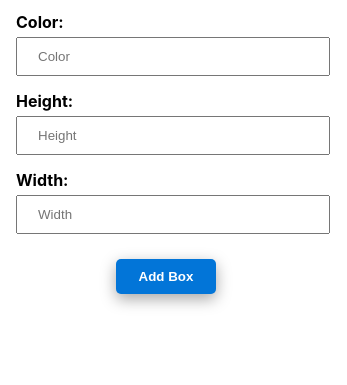
it: Add new box to boxList and DOM
Check: the text "Remove Box!" is not shown
Step 1. Type "peachpuff" into the field labelled "Color:" → (173,56), box [16,37,330,76]
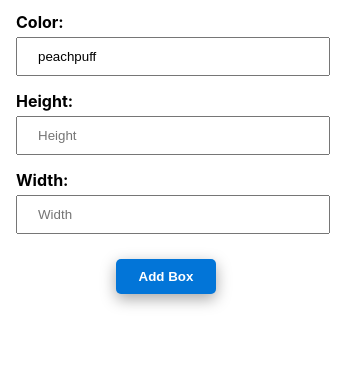
Step 2. Type "2" into the field labelled "Width:" → (173,214), box [16,195,330,234]
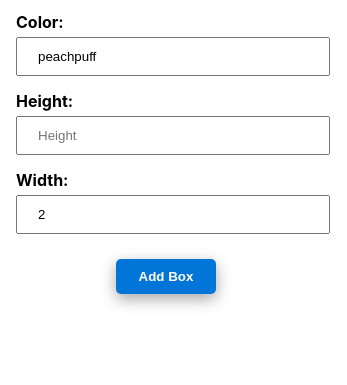
Step 3. Type "2" into the field labelled "Height:" → (173,136), box [16,116,330,155]
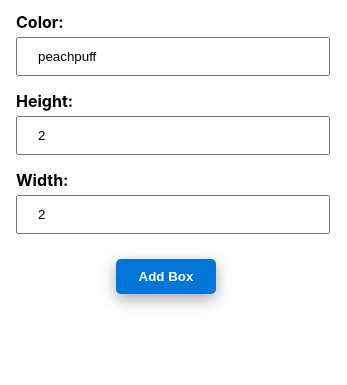
Step 4. Click the button "Add Box" → (166,276), box [116,259,216,294]
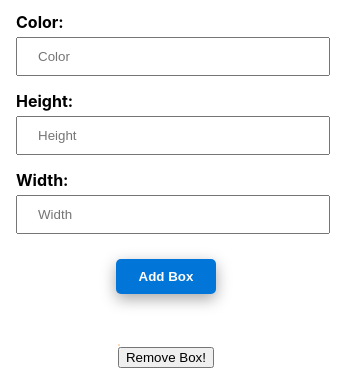
Check: the number of fields is 3, box [16,37,330,76]; [16,116,330,155]; [16,195,330,234]
Check: the button "Remove Box!" is shown, box [118,347,214,368]
